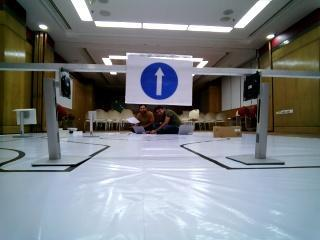straight: (127, 56, 193, 108)
